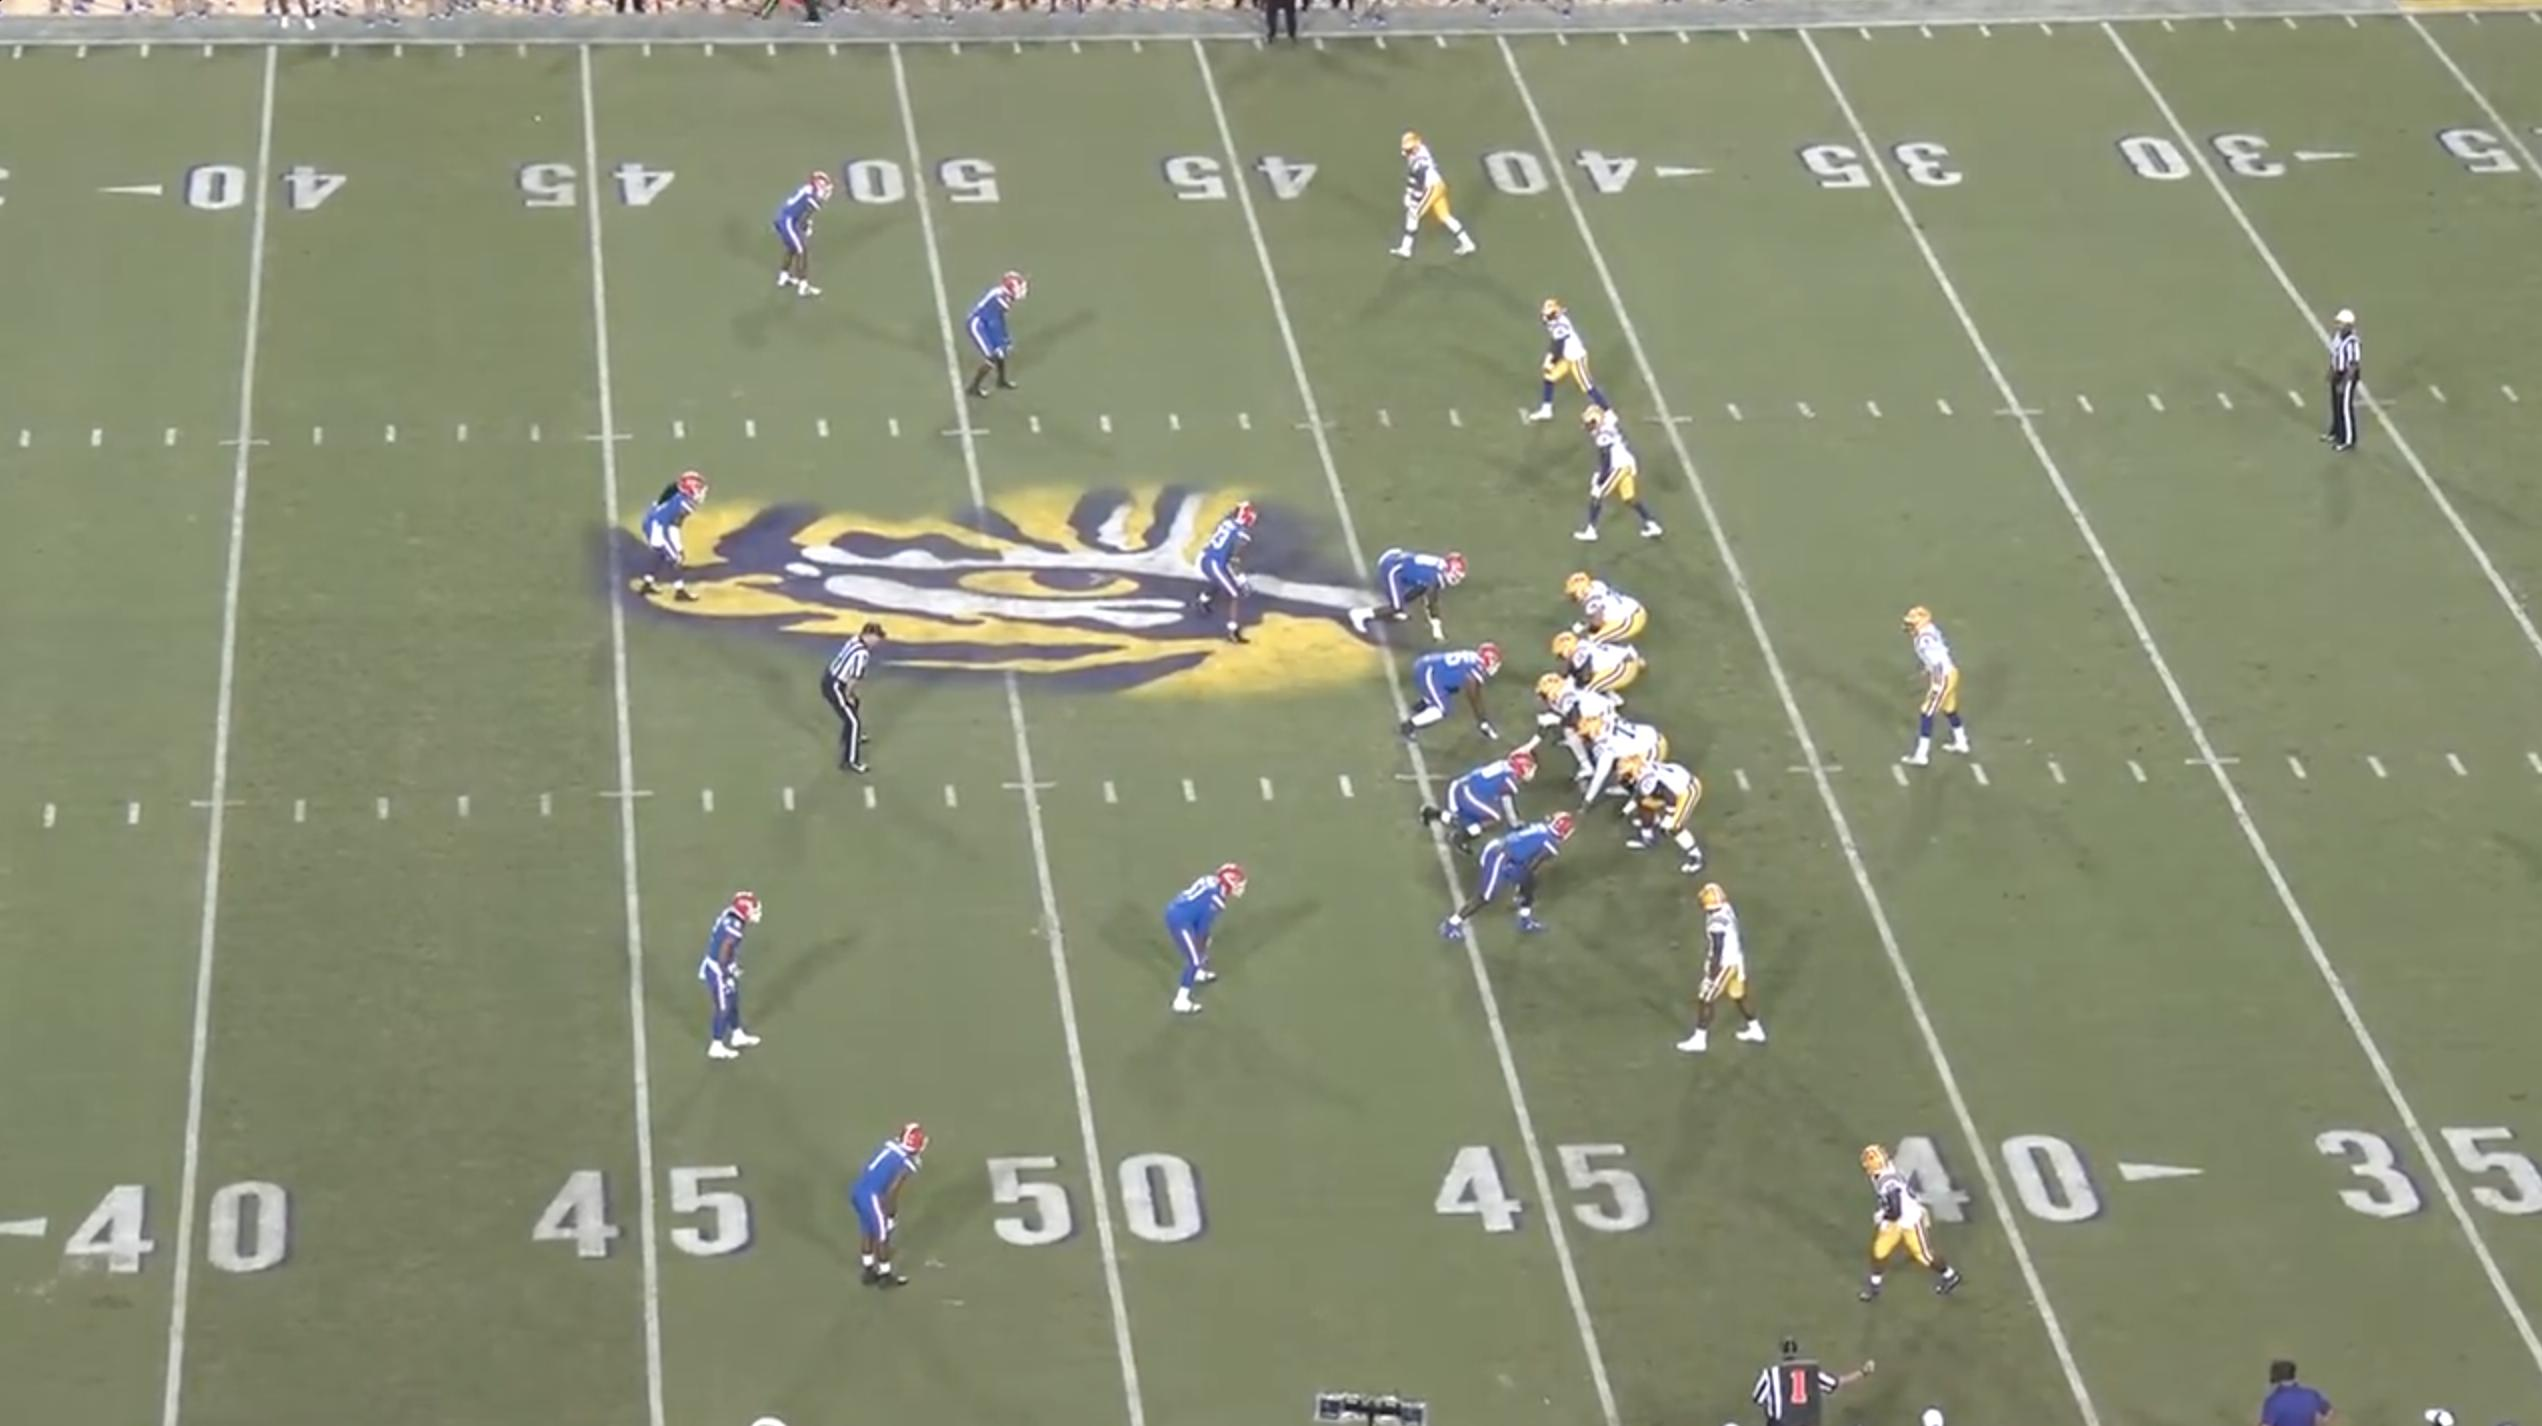player: (1857, 1133, 1974, 1308), (1440, 810, 1579, 946), (1676, 880, 1775, 1068), (1157, 859, 1255, 1023), (846, 1120, 935, 1300), (1563, 401, 1669, 549), (692, 885, 770, 1071), (1900, 606, 1979, 776), (1385, 124, 1480, 265), (1520, 291, 1610, 430), (1352, 545, 1472, 645), (1419, 745, 1534, 849), (1390, 644, 1505, 747), (1621, 751, 1715, 873), (1196, 495, 1270, 645), (1574, 714, 1669, 827), (640, 470, 714, 612), (962, 266, 1033, 402), (1526, 673, 1622, 773), (759, 173, 829, 305), (1558, 569, 1650, 668), (1545, 627, 1639, 705)
ref: (1746, 1336, 1888, 1426), (816, 616, 894, 779), (2323, 305, 2381, 465), (1252, 0, 1315, 51)
